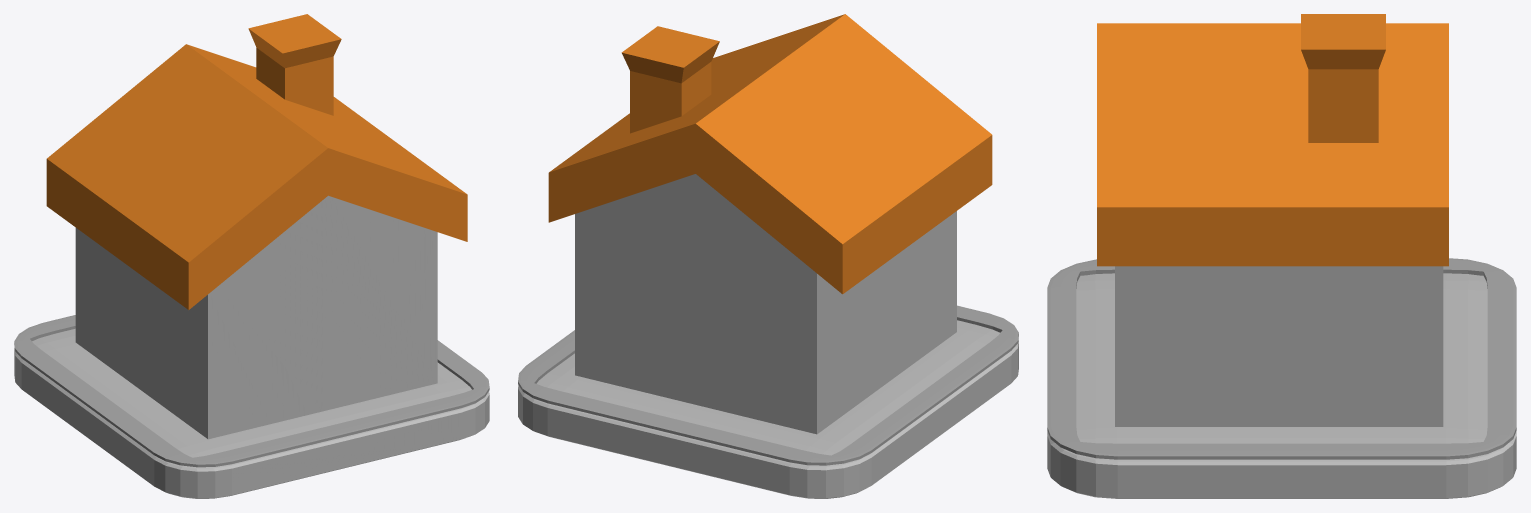
The model's file is house_lv1.glb.
3 renders of one model, left to right at view 1: azimuth 30°, elevation 25°; view 2: azimuth 150°, elevation 25°; view 3: azimuth 270°, elevation 25°, orthographic. The views are drawn at different scales.
Parts seen in each view (by area): view 1: color-block.001, 立方体, 物体, color-block; view 2: color-block.001, 立方体, 物体, color-block; view 3: color-block.001, 立方体, 物体, color-block.
Boxes of the visible parts, box(x1,y1,x2,y2) form: color-block.001: box(46, 14, 467, 309); 立方体: box(75, 195, 437, 439); 物体: box(14, 328, 489, 498); color-block: box(14, 315, 489, 467); color-block.001: box(548, 14, 992, 294); 立方体: box(575, 174, 956, 434); 物体: box(518, 320, 1018, 498); color-block: box(518, 305, 1018, 465); color-block.001: box(1097, 14, 1448, 266); 立方体: box(1115, 266, 1443, 426); 物体: box(1047, 273, 1516, 498); color-block: box(1047, 258, 1516, 459).
Size of the model in its own units: 1.8 by 1.76 by 1.8.
